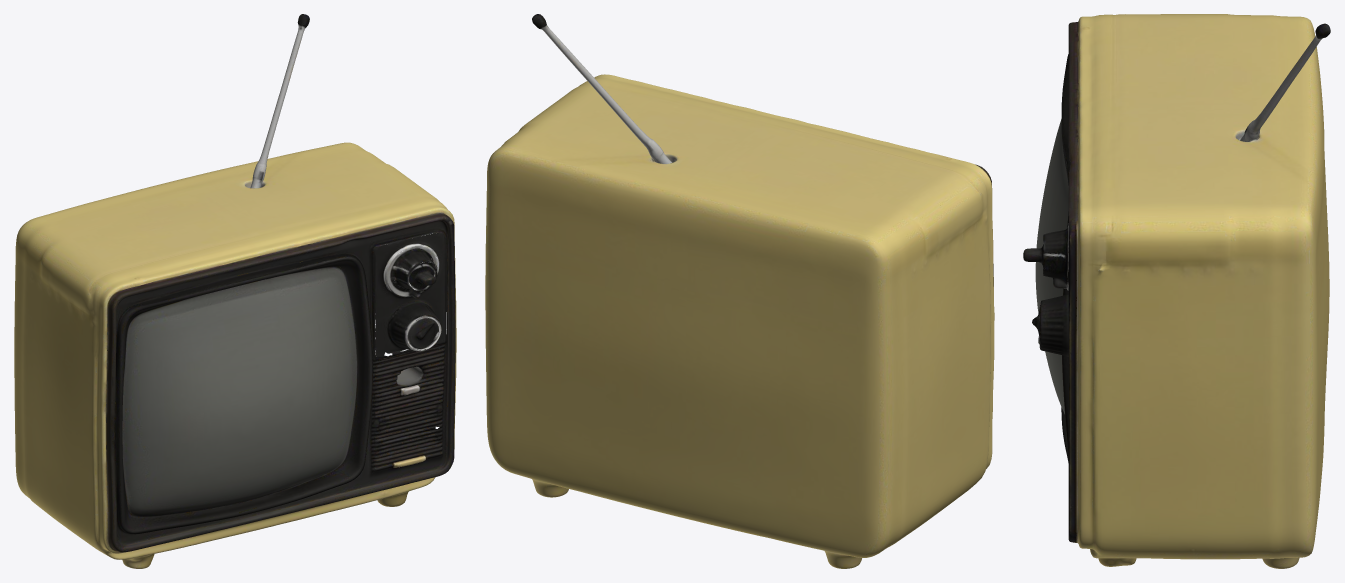
The model's file is menu_tv_settings.glb.
The picture shows the model from 3 angles, left to right: view 1: azimuth 30°, elevation 25°; view 2: azimuth 150°, elevation 25°; view 3: azimuth 270°, elevation 25°; orthographic projection. The views are drawn at different scales.
Visible parts, largest first — view 1: tripo_node_7ee7449d; view 2: tripo_node_7ee7449d; view 3: tripo_node_7ee7449d.
Part boxes in pixels (x1,y1,x2,y2): tripo_node_7ee7449d: (14, 14, 456, 568); tripo_node_7ee7449d: (485, 14, 994, 568); tripo_node_7ee7449d: (1023, 14, 1330, 568).
Size of the model in its own units: 86.86 by 97.93 by 51.
1 material, 1 textured.
